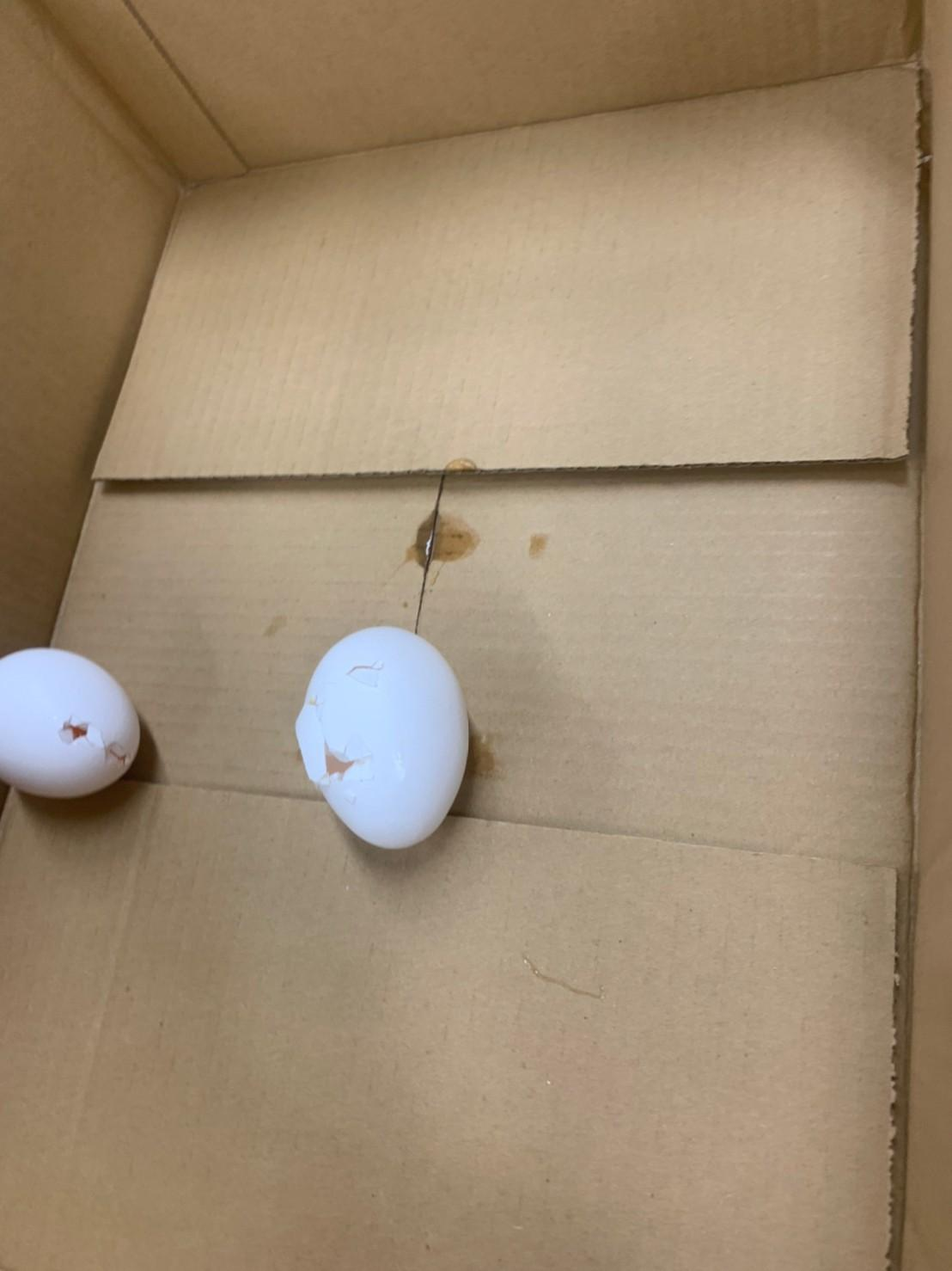egg: (283, 618, 476, 869), (0, 629, 150, 804)
